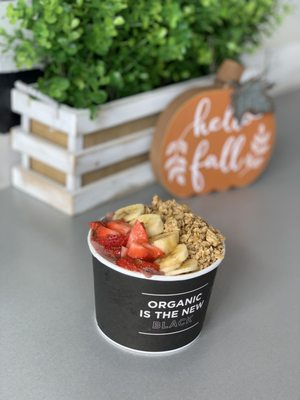pizza: (87, 195, 226, 357)
